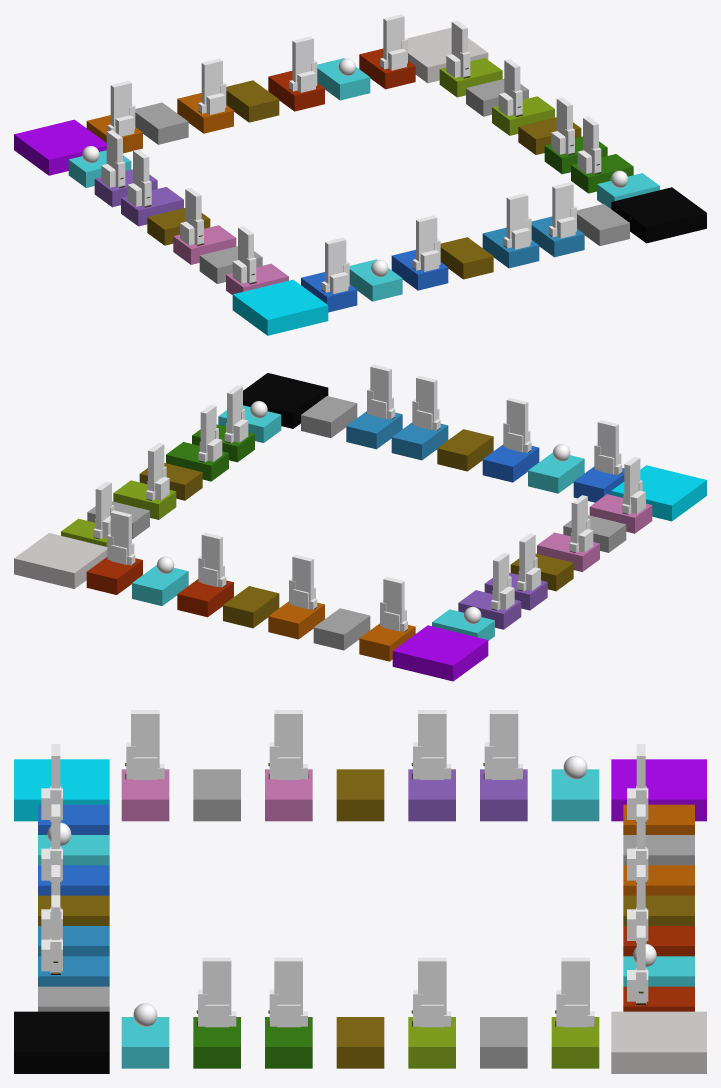
The model's file is Map (1).fbx.
3 views of the same model, one above another, from view 1: azimuth 30°, elevation 25°; view 2: azimuth 150°, elevation 25°; view 3: azimuth 270°, elevation 25° (orthographic). The views are drawn at different scales.
Visible parts, largest first — view 1: 신의_축복, 고행의_방, 페가수스, StartBlock, 잉카의_신_석상, 포츈카드_3, 그리스_여신_석상, 포츈카드_1, 헤비치_토템, 미니래_토템, 파즈_신전, 루나_신전 (+36 smaller); view 2: 페가수스, StartBlock, 신의_축복, 고행의_방, 포츈카드_3, 잉카의_신_석상, 포츈카드_1, 그리스_여신_석상, 미니래_토템, 헤비치_토템, 파즈_신전, 루나_신전 (+36 smaller); view 3: StartBlock, 고행의_방, 페가수스, 신의_축복, 야차의_신_석상, 밀림의_신_석상, 포츈카드_2, 포츈카드, 나린_토템, 수피아_토템, 도란_신전, 피시_신전 (+33 smaller).
Part boxes in pixels (left/top/right/bottom): 신의_축복: left=232, top=279, right=328, bottom=335; 고행의_방: left=611, top=187, right=706, bottom=243; 페가수스: left=14, top=119, right=106, bottom=175; StartBlock: left=407, top=27, right=488, bottom=83; 잉카의_신_석상: left=440, top=237, right=493, bottom=279; 포츈카드_3: left=135, top=102, right=188, bottom=144; 그리스_여신_석상: left=226, top=80, right=279, bottom=122; 포츈카드_1: left=577, top=204, right=629, bottom=245; 헤비치_토템: left=349, top=259, right=402, bottom=301; 미니래_토템: left=317, top=58, right=370, bottom=100; 파즈_신전: left=482, top=227, right=539, bottom=268; 루나_신전: left=391, top=249, right=448, bottom=290; 페가수스: left=392, top=625, right=488, bottom=681; StartBlock: left=14, top=533, right=107, bottom=588; 신의_축복: left=611, top=465, right=706, bottom=521; 고행의_방: left=243, top=373, right=328, bottom=428; 포츈카드_3: left=313, top=608, right=370, bottom=650; 잉카의_신_석상: left=437, top=429, right=493, bottom=471; 포츈카드_1: left=301, top=396, right=357, bottom=437; 그리스_여신_석상: left=223, top=586, right=279, bottom=628; 미니래_토템: left=132, top=565, right=188, bottom=605; 헤비치_토템: left=528, top=452, right=584, bottom=493; 파즈_신전: left=391, top=422, right=448, bottom=460; 루나_신전: left=482, top=444, right=539, bottom=482; StartBlock: left=611, top=1011, right=706, bottom=1073; 고행의_방: left=14, top=1011, right=109, bottom=1073; 페가수스: left=611, top=759, right=706, bottom=821; 신의_축복: left=14, top=759, right=109, bottom=821; 야차의_신_석상: left=336, top=769, right=384, bottom=821; 밀림의_신_석상: left=336, top=1017, right=384, bottom=1068; 포츈카드_2: left=193, top=769, right=240, bottom=821; 포츈카드: left=480, top=1017, right=527, bottom=1068; 나린_토템: left=551, top=769, right=599, bottom=821; 수피아_토템: left=121, top=1017, right=169, bottom=1068; 도란_신전: left=121, top=769, right=169, bottom=821; 피시_신전: left=551, top=1017, right=599, bottom=1068.
Size of the model in its own units: 2900 by 400 by 2900.
17 materials, 1 textured.
